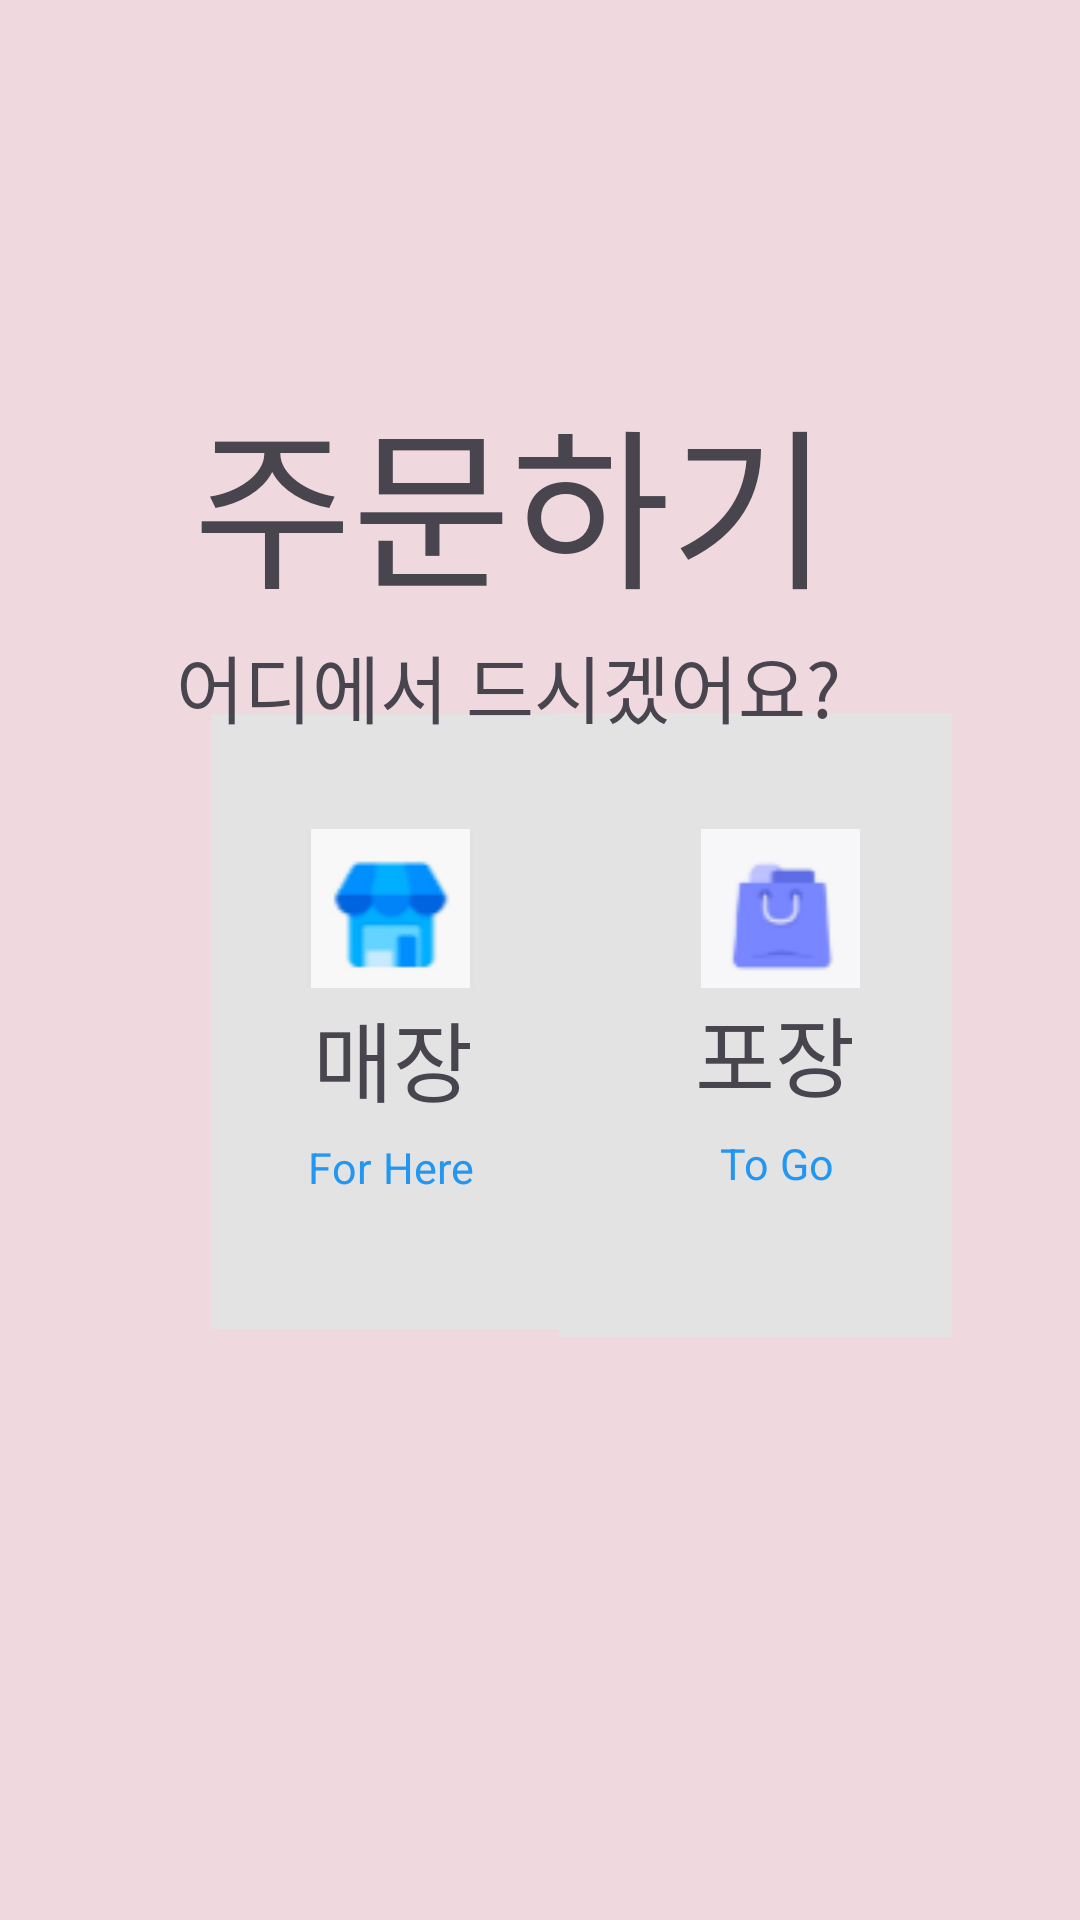

Named icons in this screenshot (1080 × 1920) and their bounding boxes, BBox(x1, y1, x2, y2):
takeout: BBox(733, 864, 831, 968)
